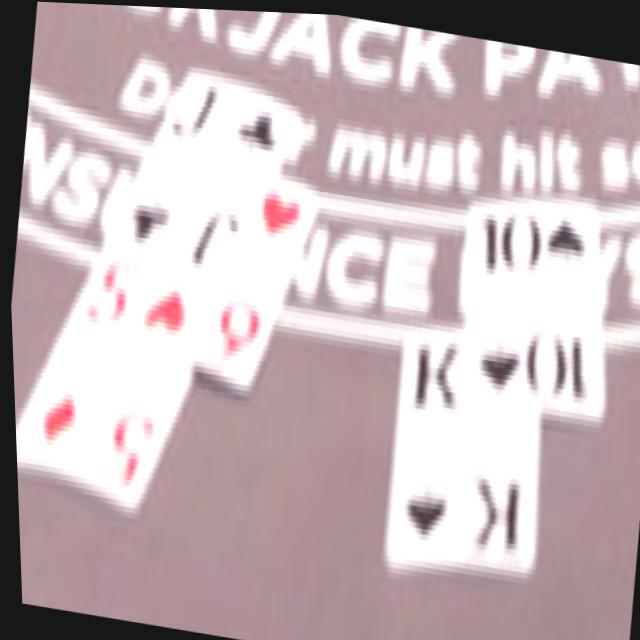Card-10: (465, 195, 600, 414)
Card-5: (13, 238, 190, 522)
Card-6: (138, 172, 317, 392)
Card-J: (114, 56, 295, 283)
Card-K: (381, 324, 537, 569)
